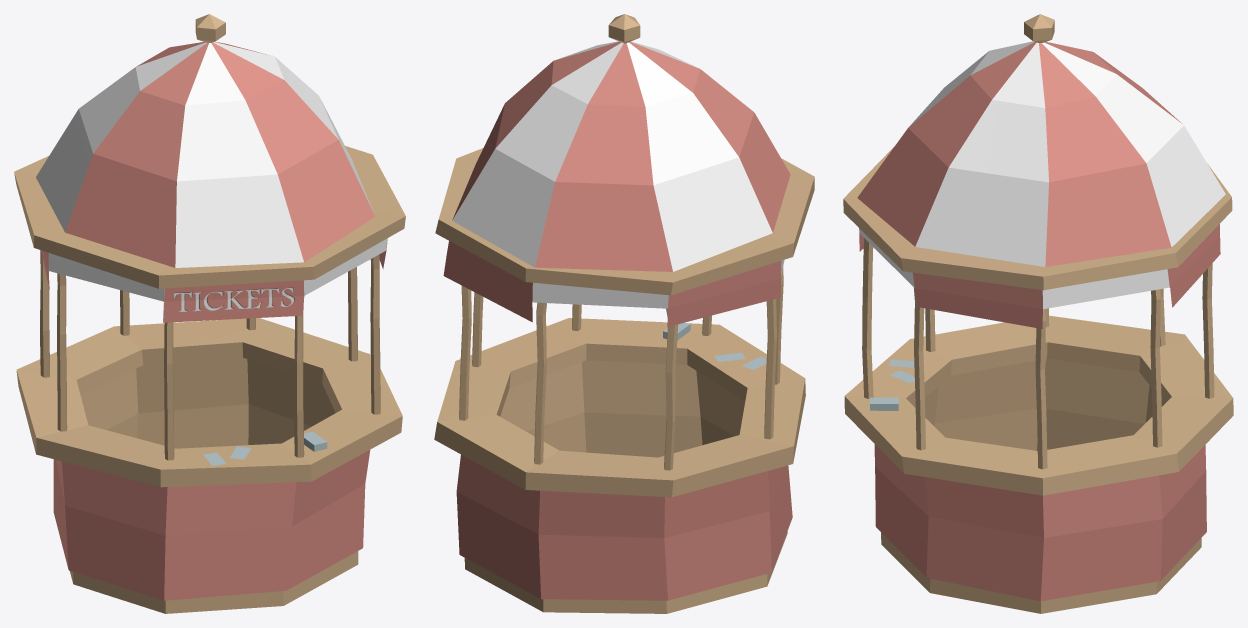
File: TicketWindow.fbx
The picture shows the model from 3 angles, left to right: view 1: azimuth 30°, elevation 25°; view 2: azimuth 150°, elevation 25°; view 3: azimuth 270°, elevation 25°; orthographic projection.
Visible parts, largest first — view 1: tickets_window; view 2: tickets_window; view 3: tickets_window.
Boxes of the visible parts, bbox=[...] form: tickets_window: bbox=[14, 14, 405, 613]; tickets_window: bbox=[434, 14, 814, 613]; tickets_window: bbox=[843, 14, 1233, 613].
Size of the model in its own units: 3.01 by 3.01 by 4.56.
